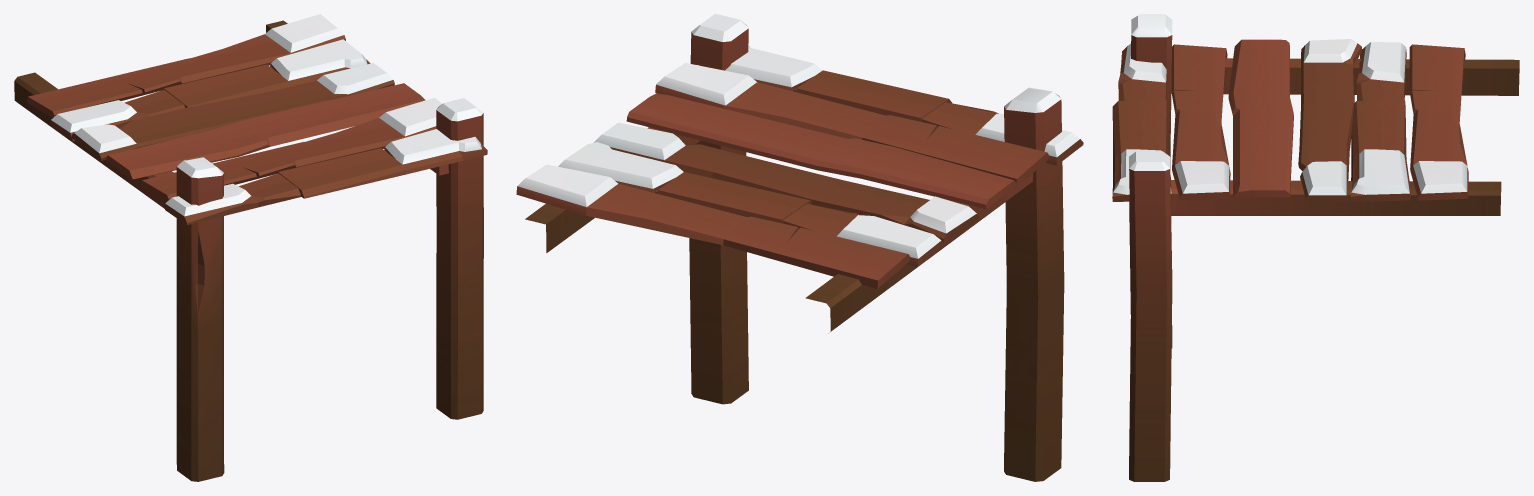
3 views of the same model, side by side, from view 1: azimuth 30°, elevation 25°; view 2: azimuth 150°, elevation 25°; view 3: azimuth 270°, elevation 25° (orthographic). The views are drawn at different scales.
Parts seen in each view (by area): view 1: SnowyPier; view 2: SnowyPier; view 3: SnowyPier.
Boxes of the visible parts, bbox=[...] form: SnowyPier: bbox=[14, 14, 487, 481]; SnowyPier: bbox=[516, 14, 1083, 481]; SnowyPier: bbox=[1112, 14, 1519, 481].
Size of the model in its own units: 77.1 by 75 by 85.77.
1 material, 1 textured.
